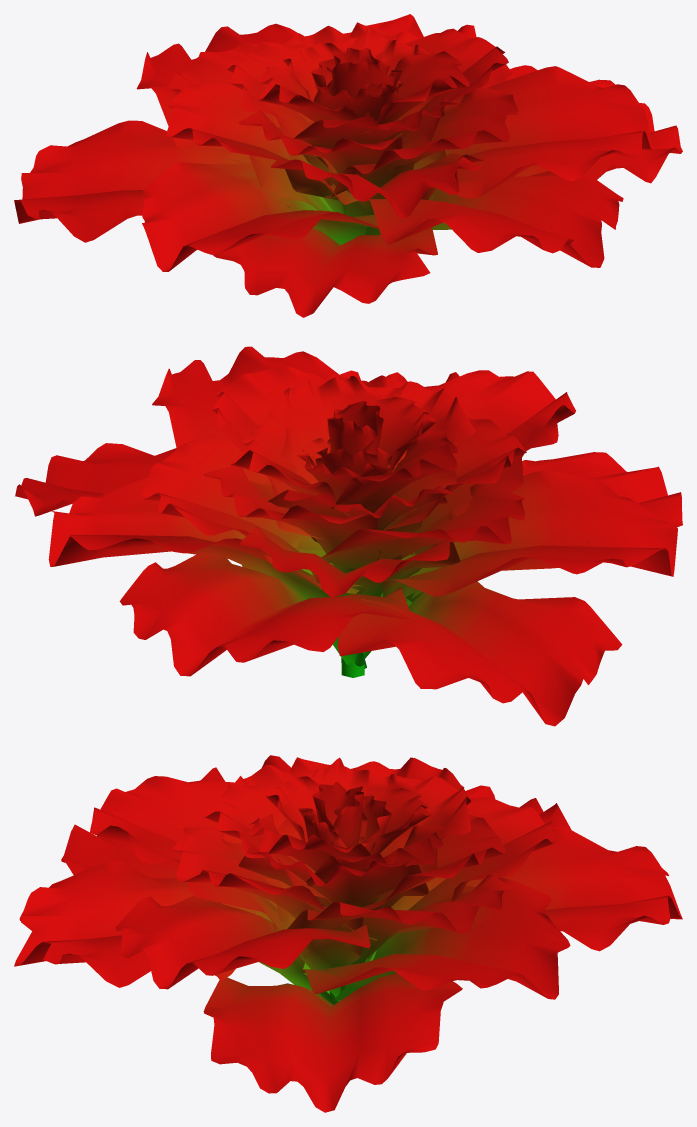
File: Purple Ornamental Kale_LOD0_Var1_ugdieawja.fbx
3 renders of one model, top to bottom at view 1: azimuth 30°, elevation 25°; view 2: azimuth 150°, elevation 25°; view 3: azimuth 270°, elevation 25°, orthographic. The views are drawn at different scales.
Parts seen in each view (by area): view 1: _ce5b_Var1_LOD0; view 2: _ce5b_Var1_LOD0; view 3: _ce5b_Var1_LOD0.
Part boxes in pixels (x1,y1,x2,y2): _ce5b_Var1_LOD0: (14,14,682,317); _ce5b_Var1_LOD0: (15,346,682,726); _ce5b_Var1_LOD0: (14,755,682,1112).
Size of the model in its own units: 51.27 by 20.33 by 48.89.
